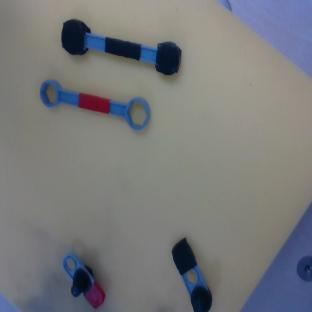part_1_bad: (165, 237, 217, 312)
part_1_good: (54, 248, 109, 312)
part_3_bad: (57, 16, 184, 80)
part_3_good: (36, 77, 153, 132)
